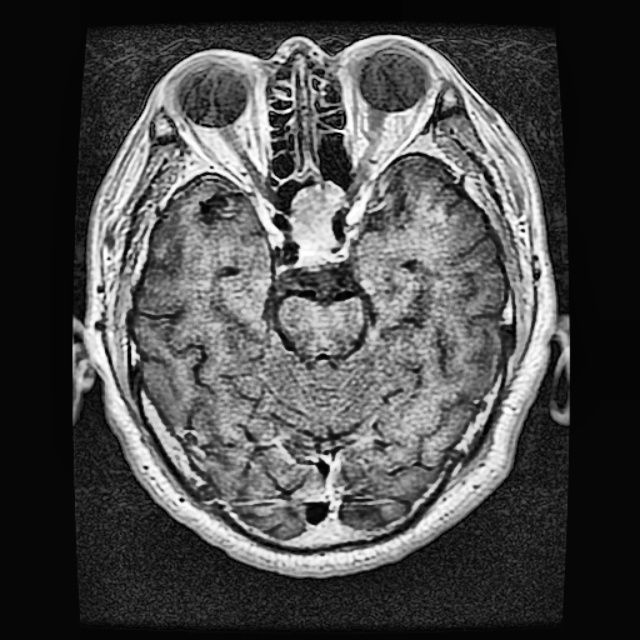Pituitary: (289, 183, 340, 263)
